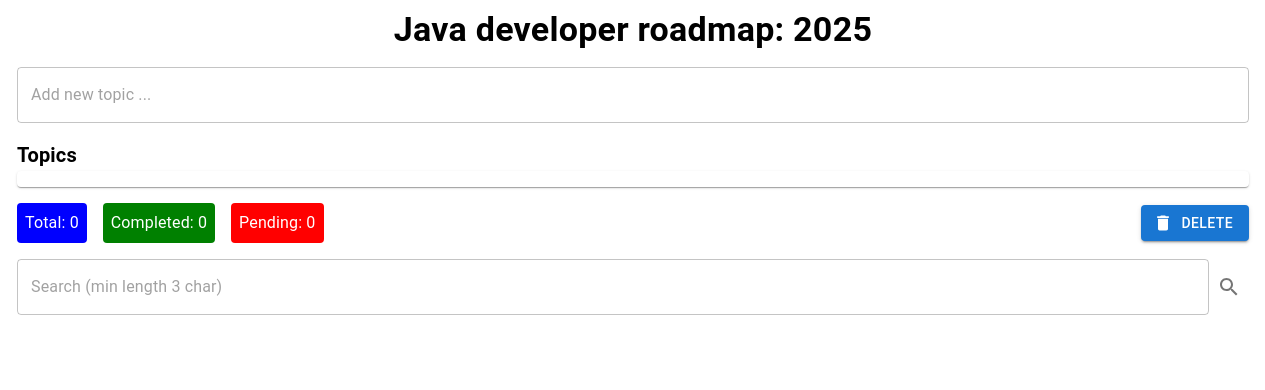
it: TodoApp Component › adds a new item to the list when entering text and pressing 'Enter'
Type "New Todo Item" into the field with placeholder "Add new topic ..." at (633, 95), box left=17, top=67, right=1249, bottom=123
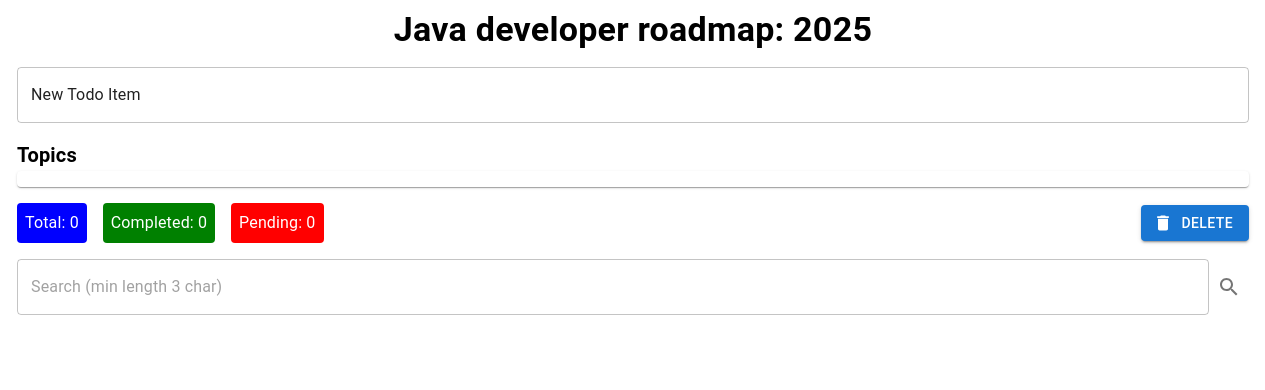
Press Enter in the field with placeholder "Add new topic ...", box left=17, top=67, right=1249, bottom=123
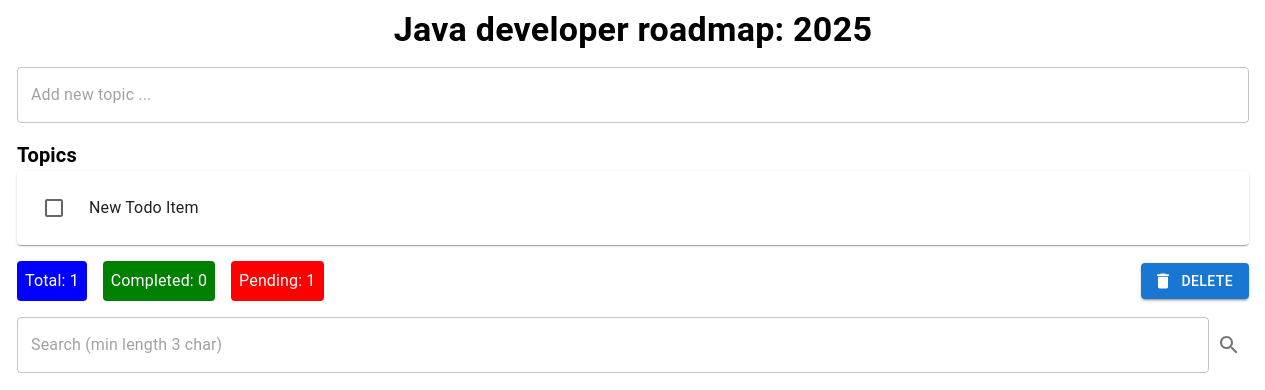
Now the text "New Todo Item" is shown, box left=89, top=198, right=199, bottom=217
